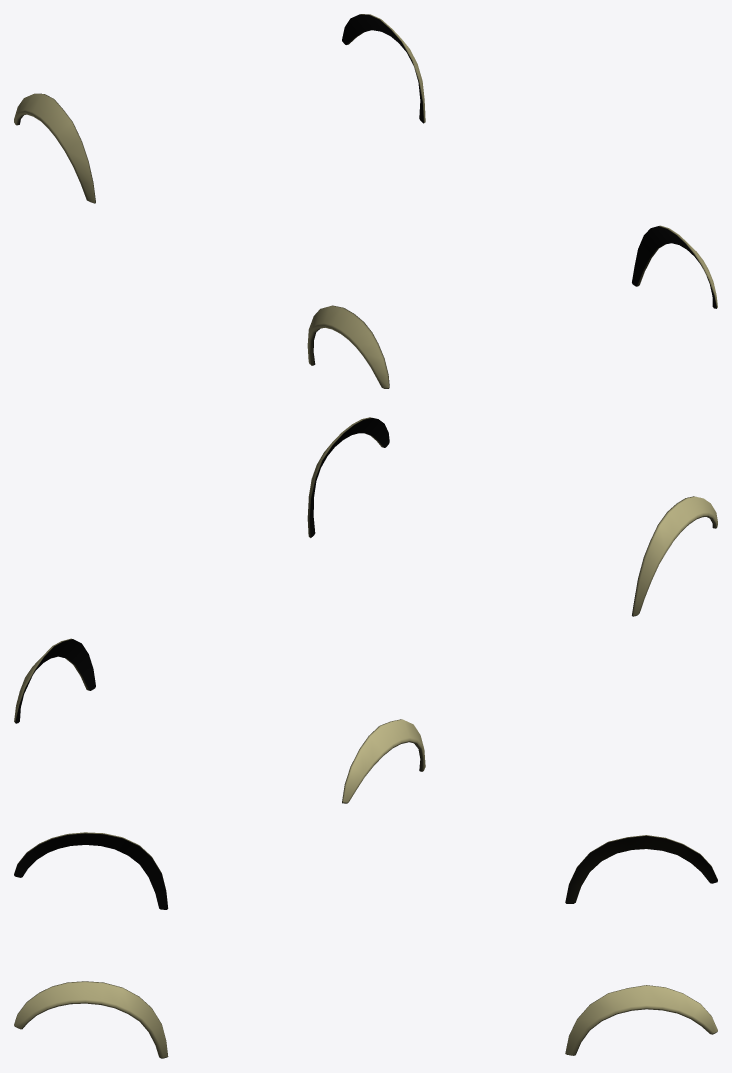
The model's file is G37_Fender_04_Duco.fbx.
3 views of the same model, one above another, from view 1: azimuth 30°, elevation 25°; view 2: azimuth 150°, elevation 25°; view 3: azimuth 270°, elevation 25° (orthographic). The views are drawn at different scales.
Visible parts, largest first — view 1: G37_Fender_04_Duco; view 2: G37_Fender_04_Duco; view 3: G37_Fender_04_Duco.
Part boxes in pixels (left/top/right/bottom): G37_Fender_04_Duco: left=14, top=14, right=717, bottom=388; G37_Fender_04_Duco: left=14, top=417, right=717, bottom=803; G37_Fender_04_Duco: left=14, top=832, right=717, bottom=1058.
Size of the model in its own units: 195 by 42.68 by 357.
